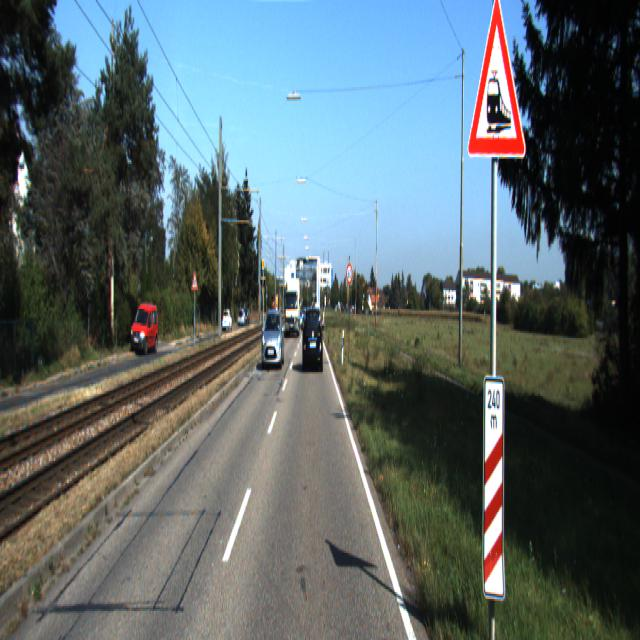Car: (131, 302, 159, 357), (303, 304, 324, 372), (262, 308, 285, 370), (285, 274, 300, 340)
